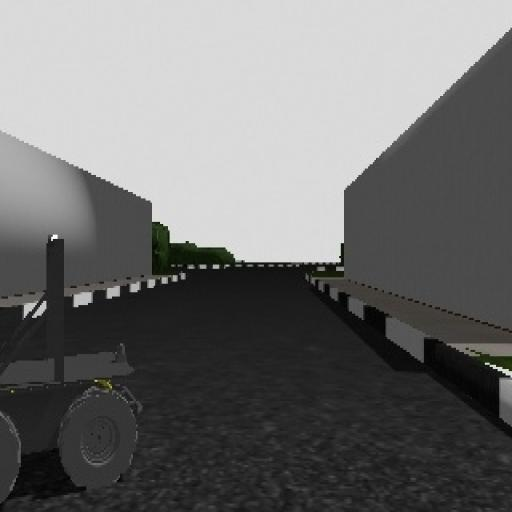huskya200: (1, 204, 151, 497)
